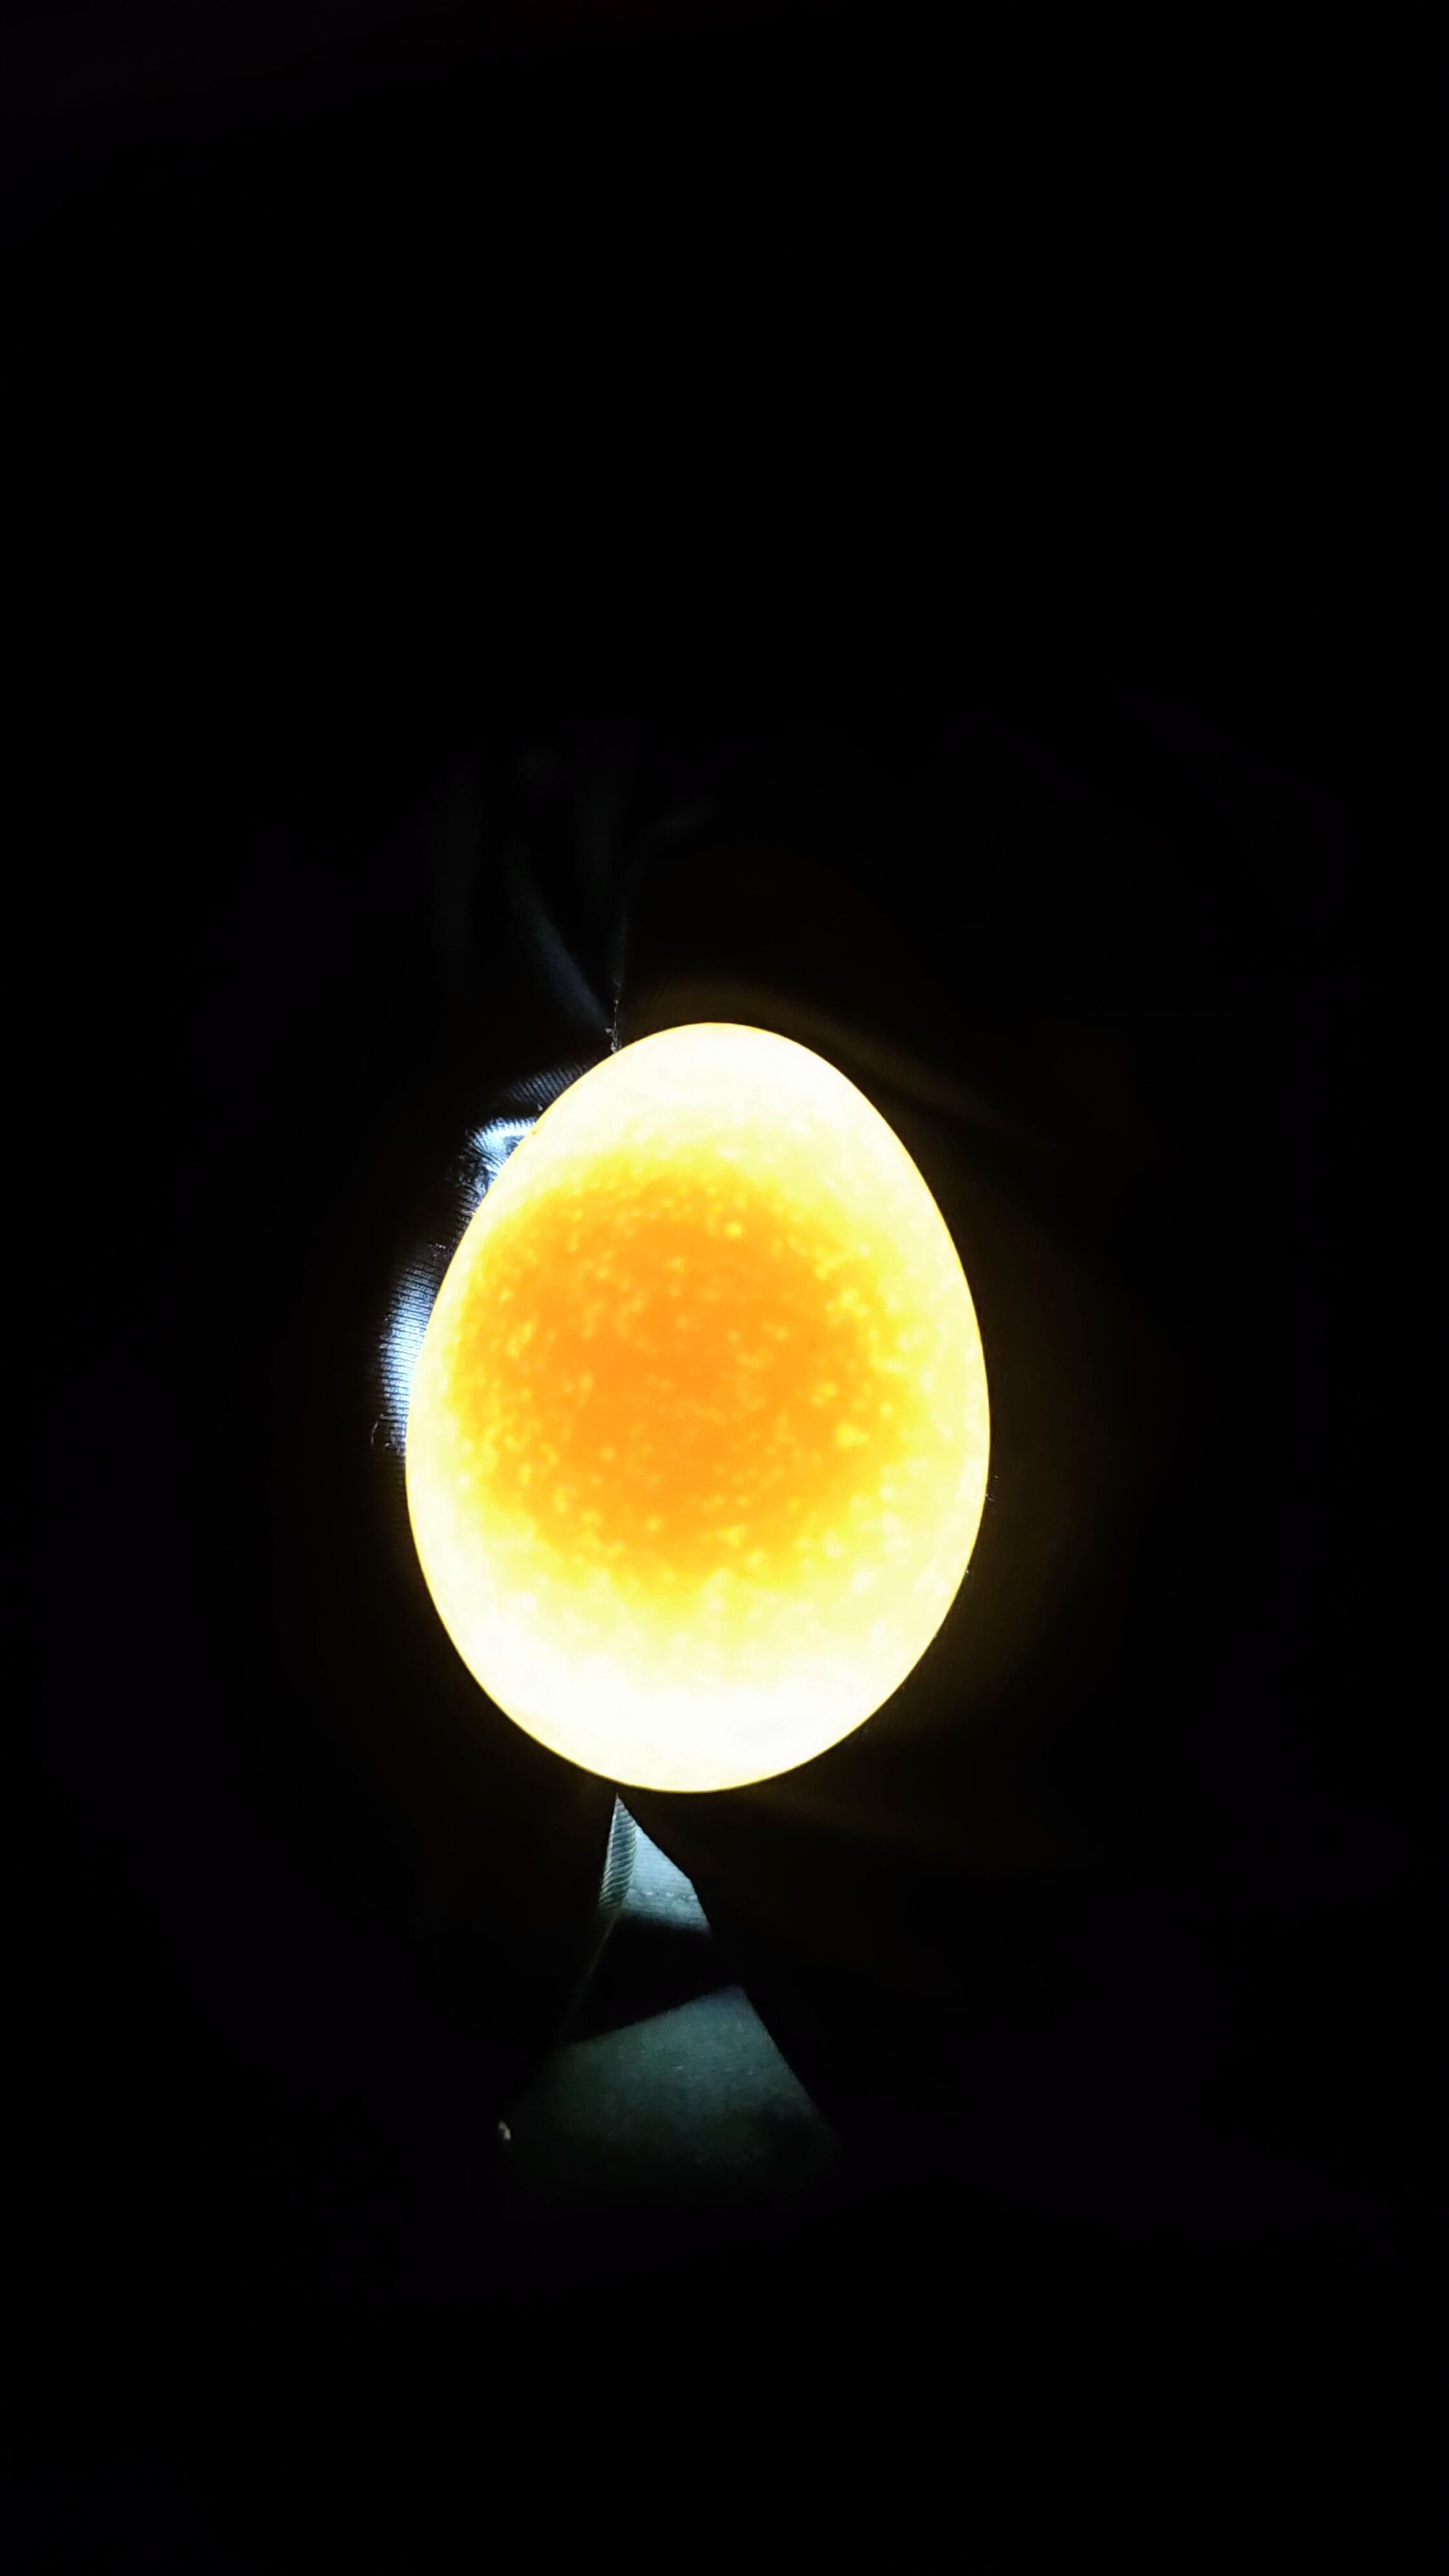Inedible: (393, 985, 1005, 1829)
